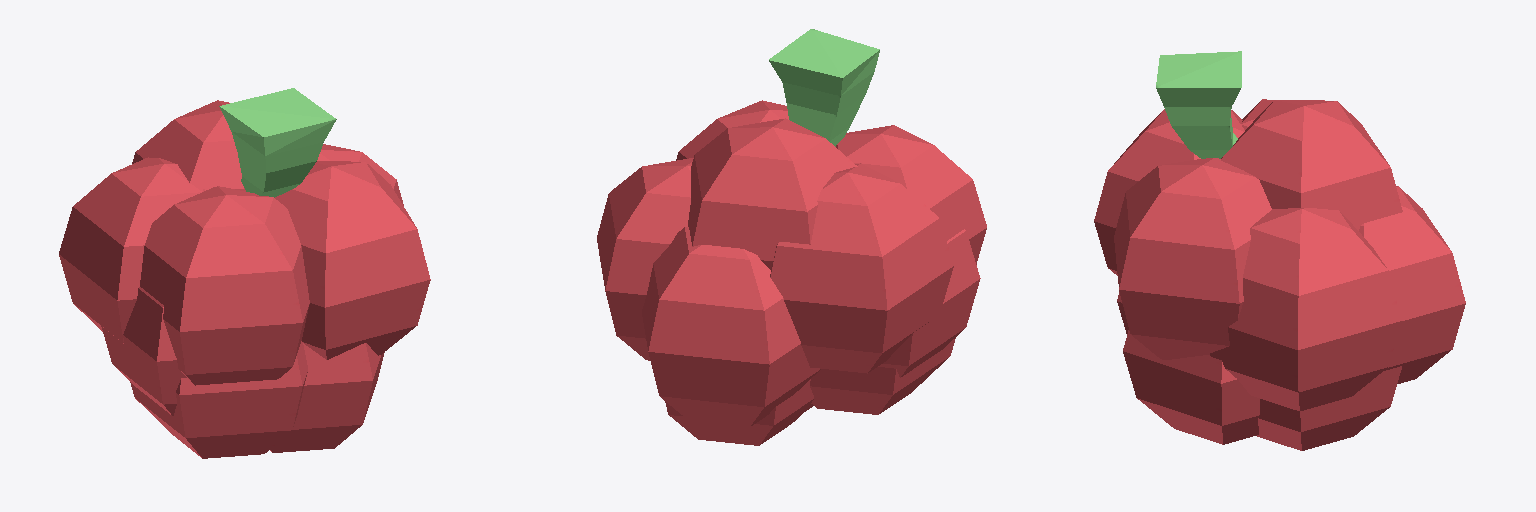
3 renders of one model, left to right at view 1: azimuth 30°, elevation 25°; view 2: azimuth 150°, elevation 25°; view 3: azimuth 270°, elevation 25°, orthographic.
Parts seen in each view (by area): view 1: Sphere.006_Sphere.007, Sphere.005_Sphere.008, Sphere.007_Sphere.007, Sphere.000_Sphere.007, Plane.009, Sphere.008_Sphere.007, Sphere.003_Sphere.007, Sphere.001_Sphere.008, Sphere.010_Sphere.007; view 2: Sphere.007_Sphere.007, Sphere.002_Sphere.007, Sphere.003_Sphere.007, Sphere.010_Sphere.007, Plane.009, Sphere.006_Sphere.007, Sphere.000_Sphere.007, Sphere.001_Sphere.008, Sphere.004_Sphere.007, Sphere.005_Sphere.008; view 3: Sphere.010_Sphere.007, Sphere.005_Sphere.008, Sphere.003_Sphere.007, Sphere.002_Sphere.007, Sphere.008_Sphere.007, Plane.009, Sphere.004_Sphere.007, Sphere.006_Sphere.007.
Boxes of the visible parts, <box> form: Sphere.006_Sphere.007: <box>140,186,309,385</box>; Sphere.005_Sphere.008: <box>275,161,430,359</box>; Sphere.007_Sphere.007: <box>59,157,204,343</box>; Sphere.000_Sphere.007: <box>130,341,307,458</box>; Plane.009: <box>219,88,336,197</box>; Sphere.008_Sphere.007: <box>270,343,384,452</box>; Sphere.003_Sphere.007: <box>132,100,245,191</box>; Sphere.001_Sphere.008: <box>101,287,186,415</box>; Sphere.010_Sphere.007: <box>317,144,403,205</box>; Sphere.007_Sphere.007: <box>770,163,953,373</box>; Sphere.002_Sphere.007: <box>642,227,820,426</box>; Sphere.003_Sphere.007: <box>688,118,857,269</box>; Sphere.010_Sphere.007: <box>597,158,693,360</box>; Plane.009: <box>769,29,879,146</box>; Sphere.006_Sphere.007: <box>836,125,986,264</box>; Sphere.000_Sphere.007: <box>810,338,955,414</box>; Sphere.001_Sphere.008: <box>878,229,980,377</box>; Sphere.004_Sphere.007: <box>665,379,813,445</box>; Sphere.005_Sphere.008: <box>676,100,788,160</box>; Sphere.010_Sphere.007: <box>1210,208,1401,410</box>; Sphere.005_Sphere.008: <box>1114,158,1271,359</box>; Sphere.003_Sphere.007: <box>1221,100,1402,230</box>; Sphere.002_Sphere.007: <box>1359,186,1465,383</box>; Sphere.008_Sphere.007: <box>1123,330,1259,444</box>; Plane.009: <box>1156,51,1241,158</box>; Sphere.004_Sphere.007: <box>1257,366,1401,450</box>; Sphere.006_Sphere.007: <box>1094,109,1244,275</box>.
Bounding box in the file's own units: 3.52 × 3.67 × 3.49.
2 materials, 2 textured.